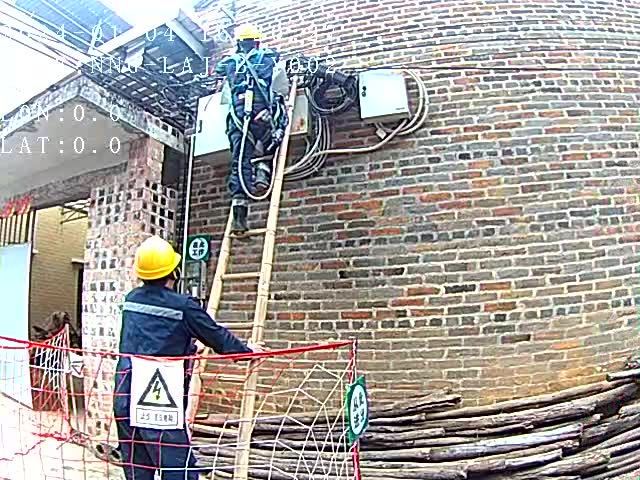downsuit: (114, 401, 194, 478), (220, 123, 279, 193)
halt: (134, 237, 182, 286), (231, 23, 263, 53)
hand: (247, 337, 265, 357)
intosign: (344, 383, 373, 445)
person: (110, 235, 249, 480), (211, 20, 292, 232)
safebelt: (227, 46, 291, 201)
shoe: (253, 160, 285, 203), (229, 194, 254, 244)
support: (113, 233, 266, 480)
upsuit: (112, 282, 252, 401), (219, 52, 273, 112)
worksign: (187, 239, 208, 258)
